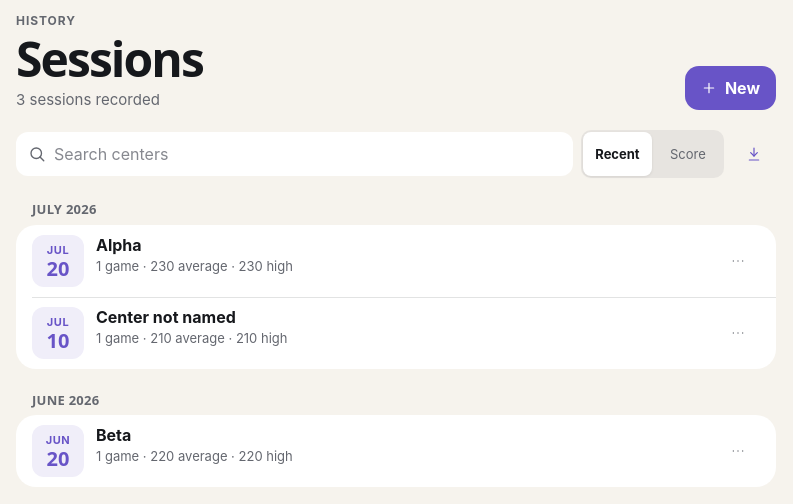
session list review fixes › preserves score order across months and uses the unnamed-center fallback
The width and height of the screenshot is (793, 504).
Expected: the text "Alpha" is shown, [96,235,142,255]
Click the button "Score": (688, 154) [654,132,722,176]
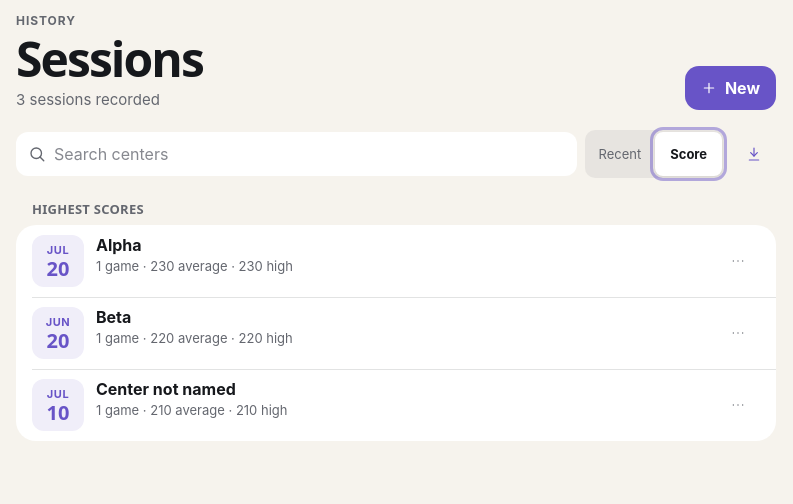
Expected: the button named "Actions for Center not named" is shown, [716,383,760,427]
Expected: the heading "Highest scores" is shown, [32,200,144,218]
Expected: the text "Center not named" is shown, [96,379,236,399]
